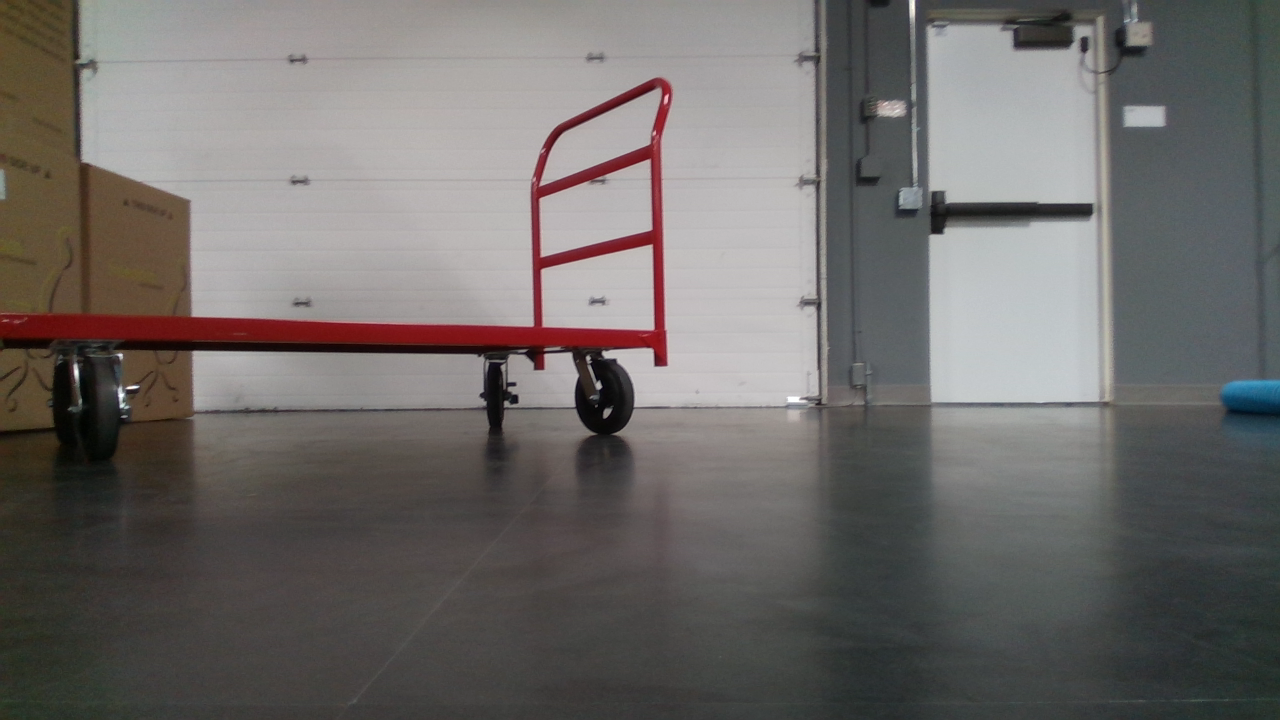Dolly: (0, 71, 681, 466)
Wheel: (72, 349, 132, 464), (572, 358, 638, 436), (49, 350, 87, 450), (481, 362, 519, 435)
